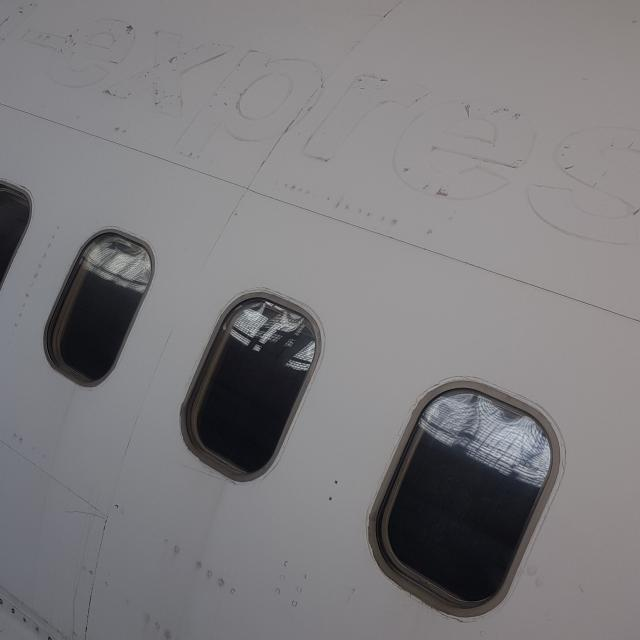crack: (64, 508, 118, 533)
